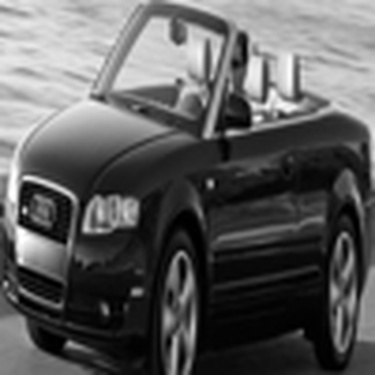car: (5, 3, 370, 370)
